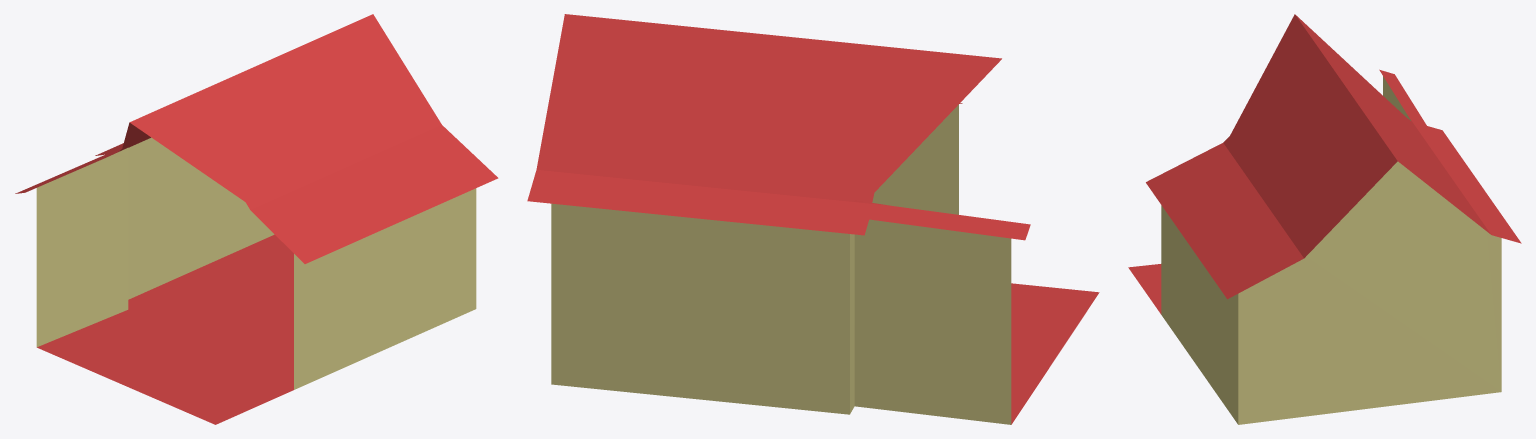
3 renders of one model, left to right at view 1: azimuth 30°, elevation 25°; view 2: azimuth 150°, elevation 25°; view 3: azimuth 270°, elevation 25°, orthographic. The views are drawn at different scales.
Bounding box in the file's own units: 22.16 × 18.26 × 12.84.
